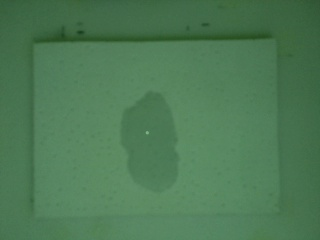Water_detected: (128, 103, 181, 185)
